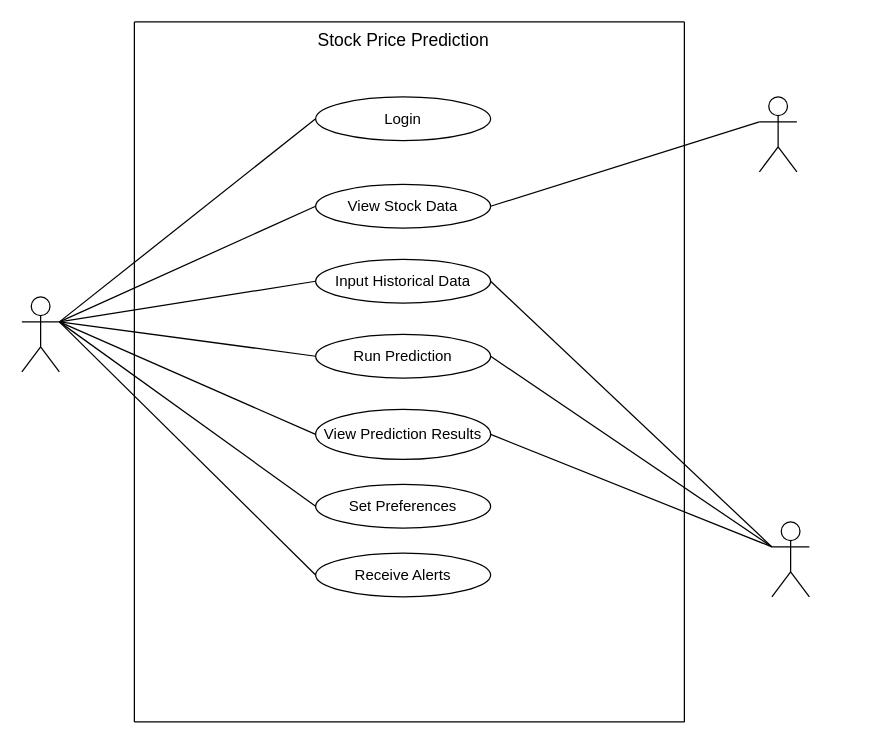
The diagram is 890 pixels wide and 745 high, and some of its shapes have lost their labels. The centre of each missing label's shape, as x and y in pixels:
"Prediction Algorithm" goes at [790,559].
"Stock Market Data Provider" goes at [777,134].
"User" goes at [40,334].
